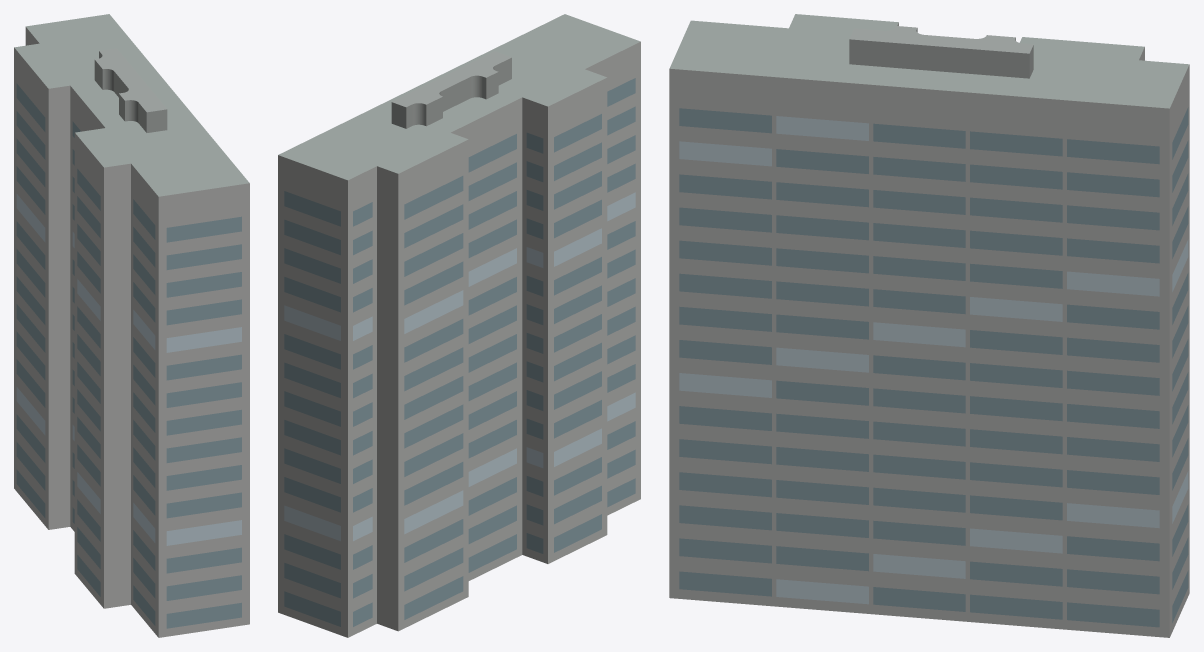
The model's file is fallback-gaepo-raemian-forest-completion-128.glb.
The picture shows the model from 3 angles, left to right: view 1: azimuth 30°, elevation 25°; view 2: azimuth 150°, elevation 25°; view 3: azimuth 270°, elevation 25°; orthographic projection. The views are drawn at different scales.
Parts seen in each view (by area): view 1: fallback-gaepo-raemian-forest-completion-128; view 2: fallback-gaepo-raemian-forest-completion-128; view 3: fallback-gaepo-raemian-forest-completion-128.
Part boxes in pixels (bbox=[...]): fallback-gaepo-raemian-forest-completion-128: bbox=[14, 14, 249, 637]; fallback-gaepo-raemian-forest-completion-128: bbox=[278, 14, 640, 637]; fallback-gaepo-raemian-forest-completion-128: bbox=[669, 14, 1189, 637].
Size of the model in its own units: 18.3 by 50 by 42.51.
